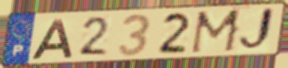2: (75, 14, 113, 60), (157, 11, 194, 56)
3: (117, 13, 155, 58)
A: (29, 18, 74, 61)
J: (236, 6, 276, 54)
M: (188, 8, 245, 56)
